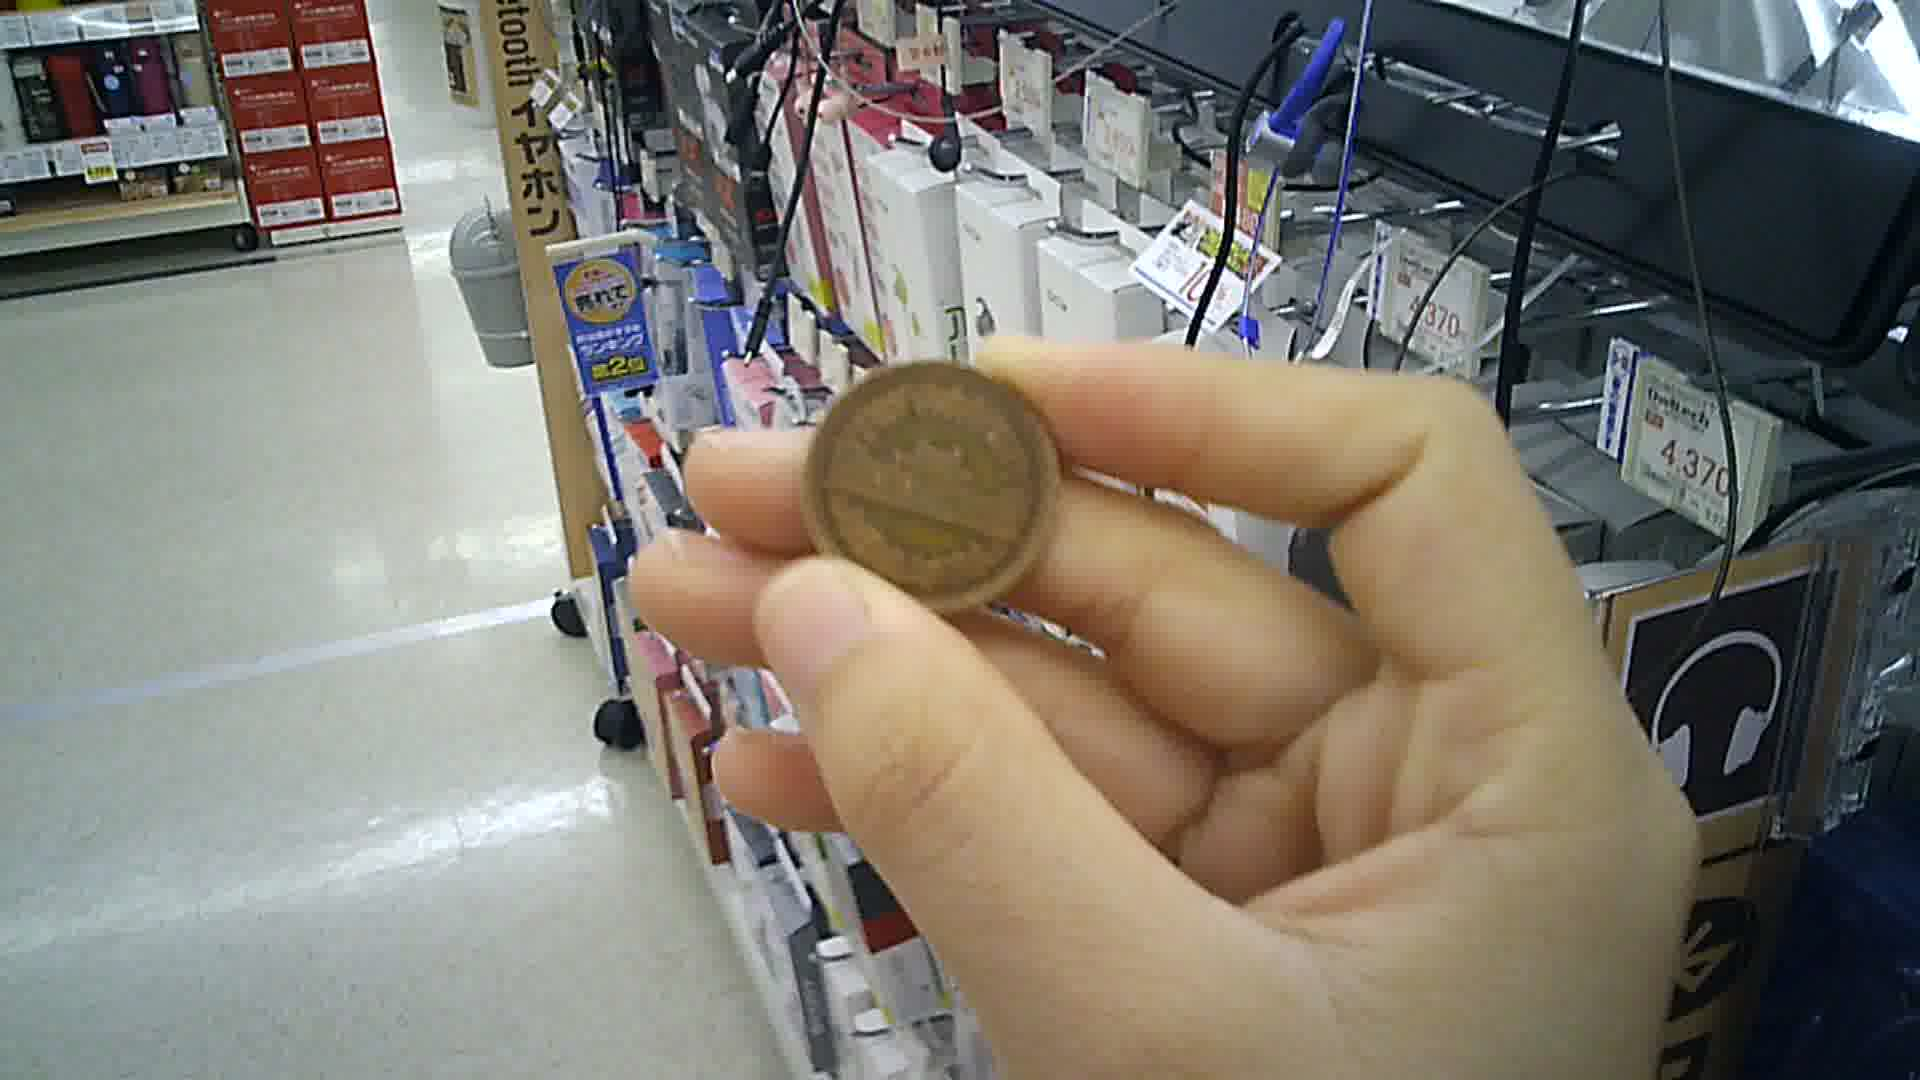10 Yen: (800, 349, 1068, 609)
